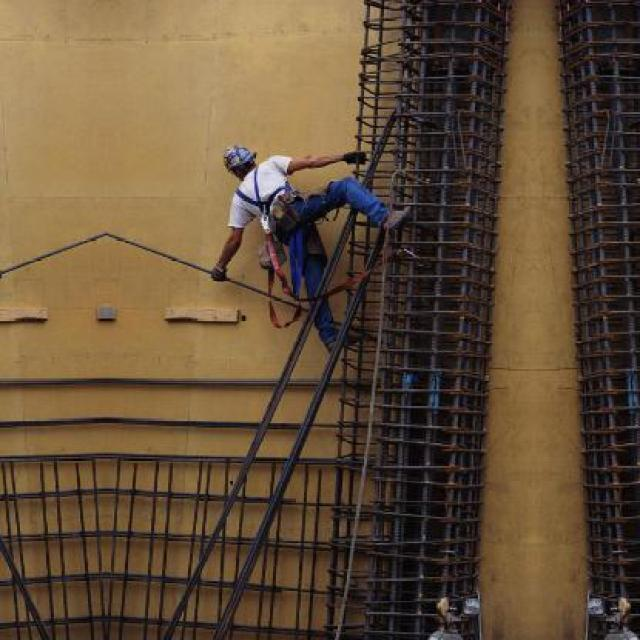helmet: (218, 141, 262, 179)
